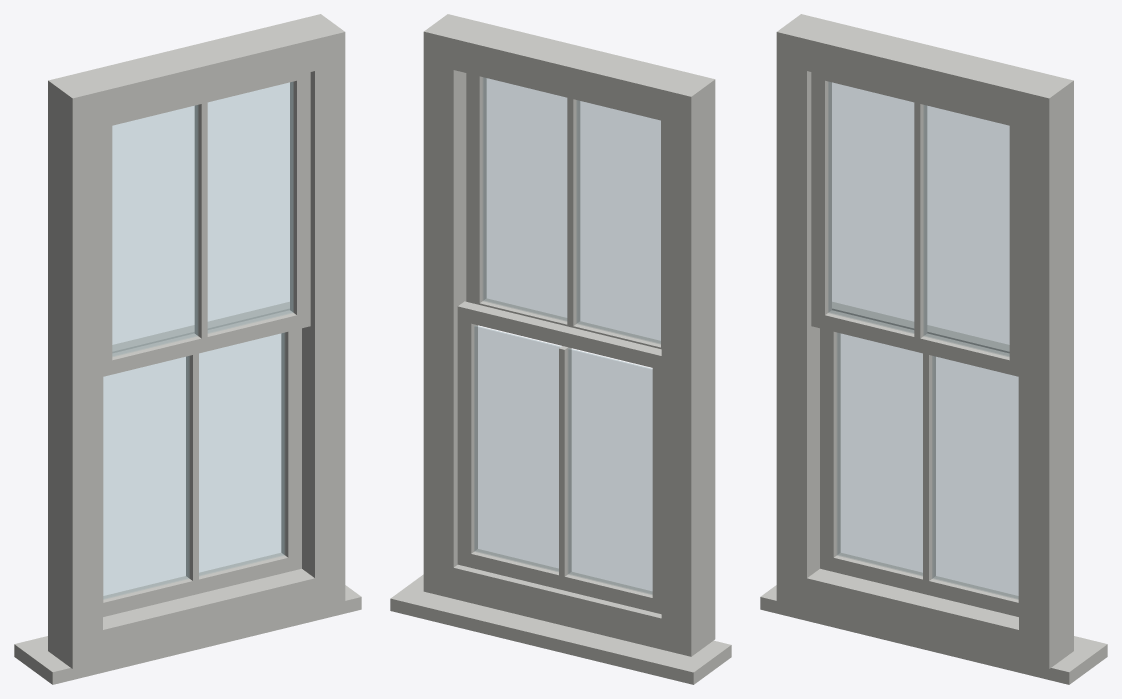
The model's file is opening.window.sash_900x1800.glb.
3 views of the same model, side by side, from view 1: azimuth 30°, elevation 25°; view 2: azimuth 150°, elevation 25°; view 3: azimuth 330°, elevation 25° (orthographic).
Visible parts, largest first — view 1: frame__paint_white, glazing__glass; view 2: frame__paint_white, glazing__glass; view 3: frame__paint_white, glazing__glass.
Boxes of the visible parts, box(x1,y1,x2,y2) form: frame__paint_white: box(14, 14, 361, 684); glazing__glass: box(103, 82, 293, 599); frame__paint_white: box(390, 14, 731, 684); glazing__glass: box(474, 77, 660, 594); frame__paint_white: box(760, 14, 1107, 684); glazing__glass: box(828, 82, 1018, 599).
Bounding box in the file's own units: 1.02 × 1.84 × 0.23.
